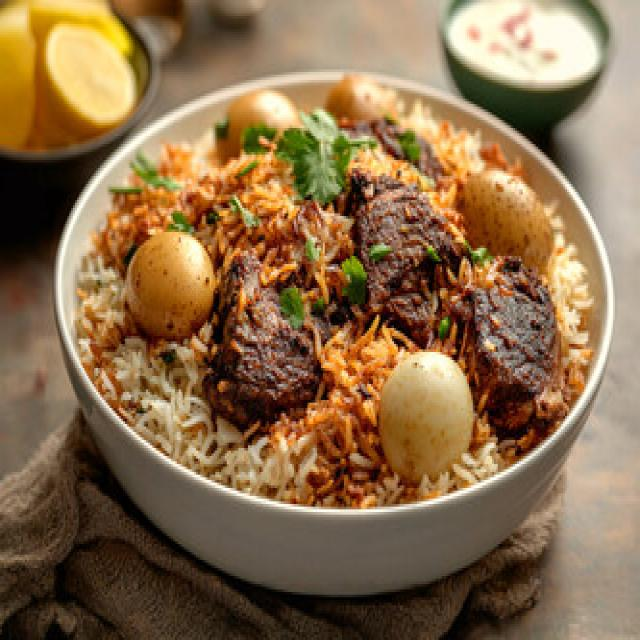CURD: (444, 0, 603, 92)
EGG: (75, 78, 596, 511), (378, 351, 470, 484), (119, 227, 218, 337), (458, 166, 554, 276)
